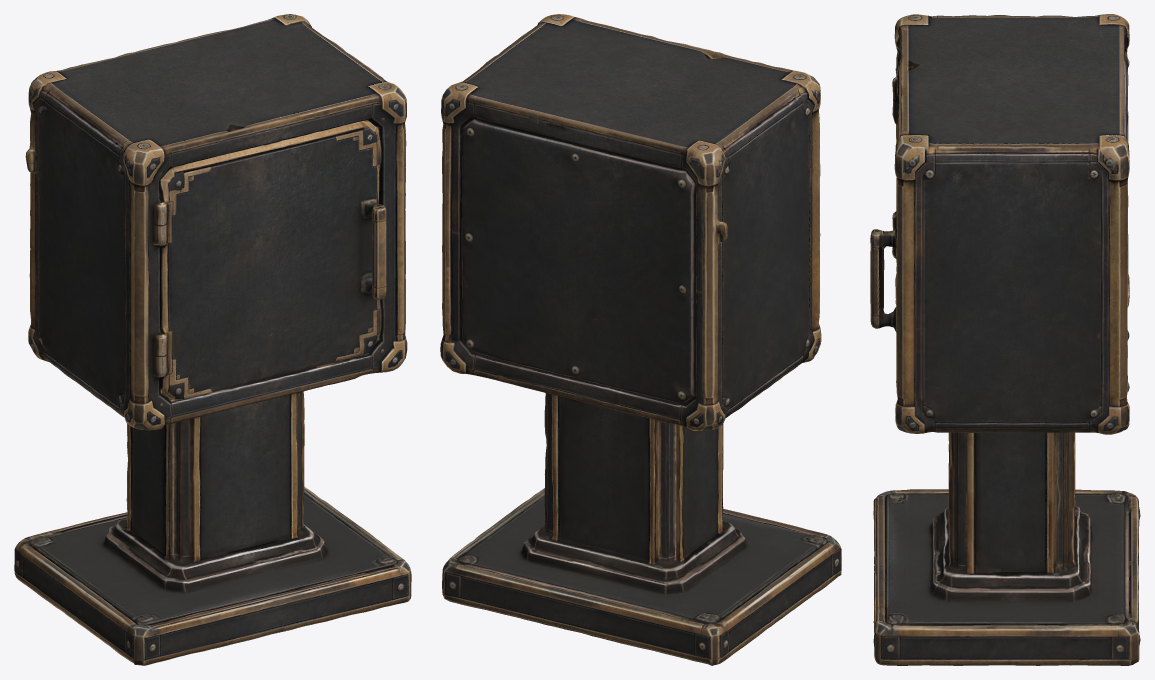
File: tripo_convert_aa1e9642-3459-402f-bcee-b17159a5bbd3.fbx
3 views of the same model, side by side, from view 1: azimuth 30°, elevation 25°; view 2: azimuth 150°, elevation 25°; view 3: azimuth 270°, elevation 25° (orthographic). The views are drawn at different scales.
Visible parts, largest first — view 1: tripo_node_aa1e9642; view 2: tripo_node_aa1e9642; view 3: tripo_node_aa1e9642.
Boxes of the visible parts, x1=… form: tripo_node_aa1e9642: x1=14, y1=14, x2=411, y2=665; tripo_node_aa1e9642: x1=440, y1=14, x2=841, y2=665; tripo_node_aa1e9642: x1=870, y1=14, x2=1140, y2=665.
Bounding box in the file's own units: 0.5823 × 0.9818 × 0.4592.
Materials: 1 (1 with a texture image).
